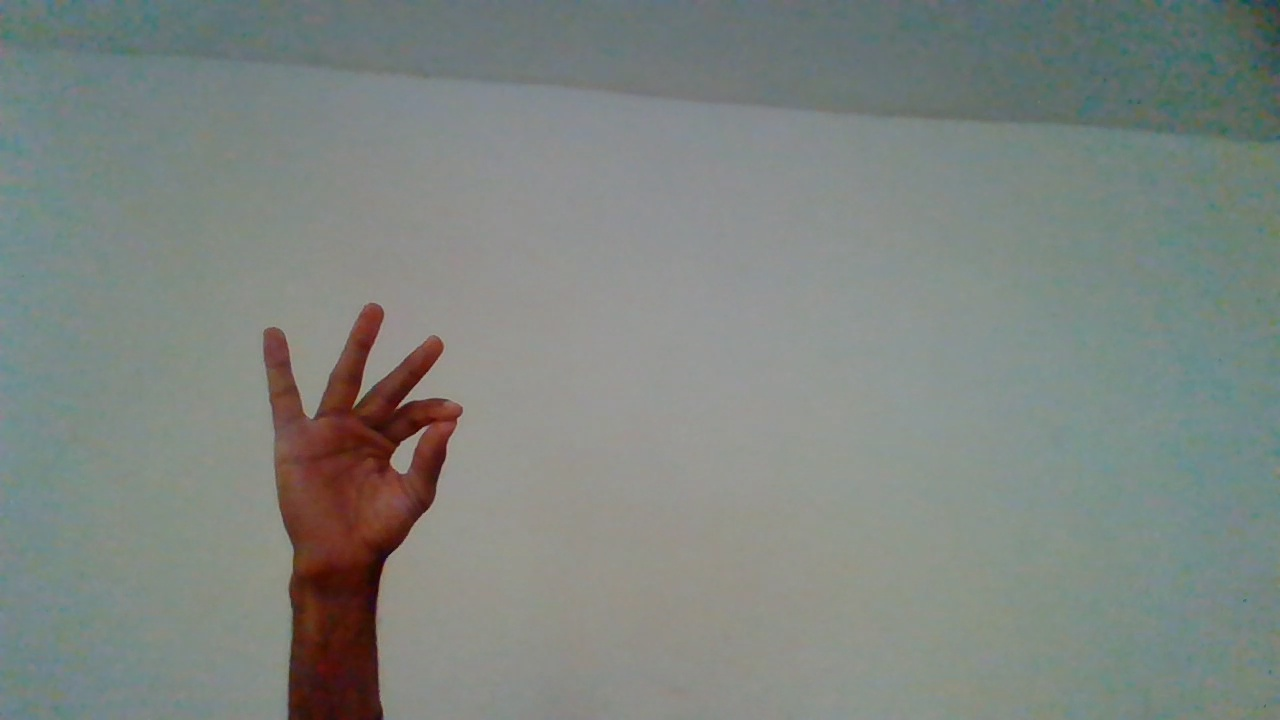le: (258, 303, 463, 710)
